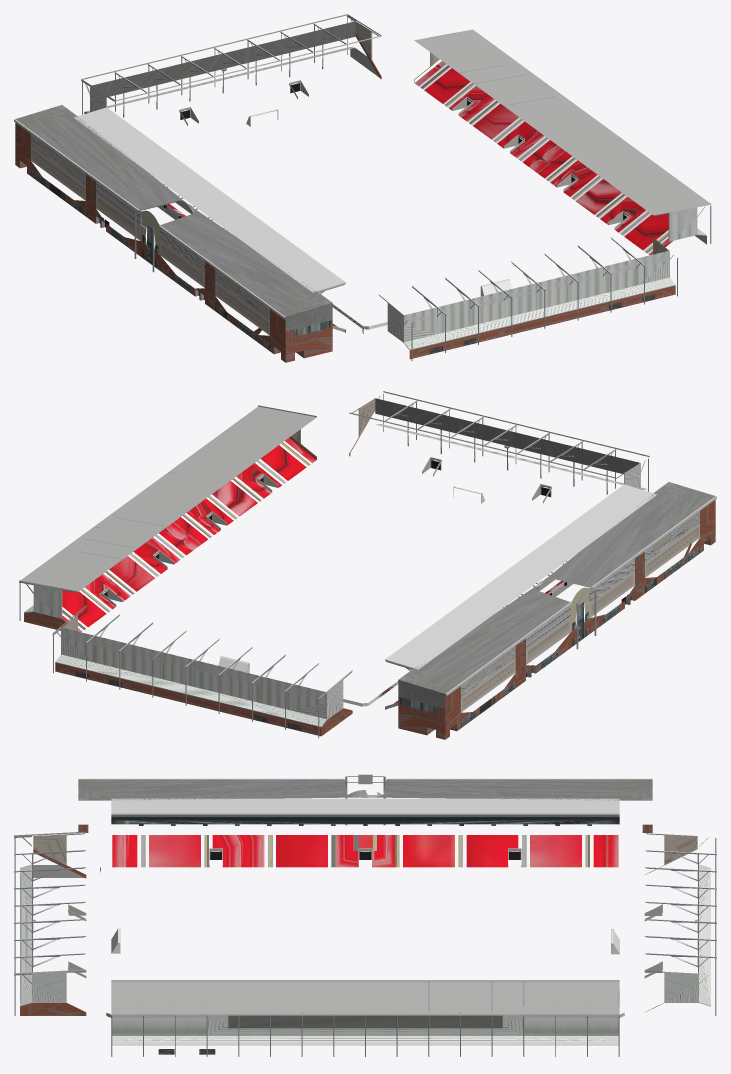
File: LSV_stadium_textured.glb
3 renders of one model, top to bottom at view 1: azimuth 30°, elevation 25°; view 2: azimuth 150°, elevation 25°; view 3: azimuth 270°, elevation 25°, orthographic. The views are drawn at different scales.
Visible parts, largest first — view 1: world; view 2: world; view 3: world.
Boxes of the visible parts, <box> form: world: <box>14,14,711,362</box>; world: <box>19,391,716,739</box>; world: <box>14,774,716,1056</box>.
Size of the model in its own units: 119479 by 13320 by 150821.
1 material, 1 textured.
